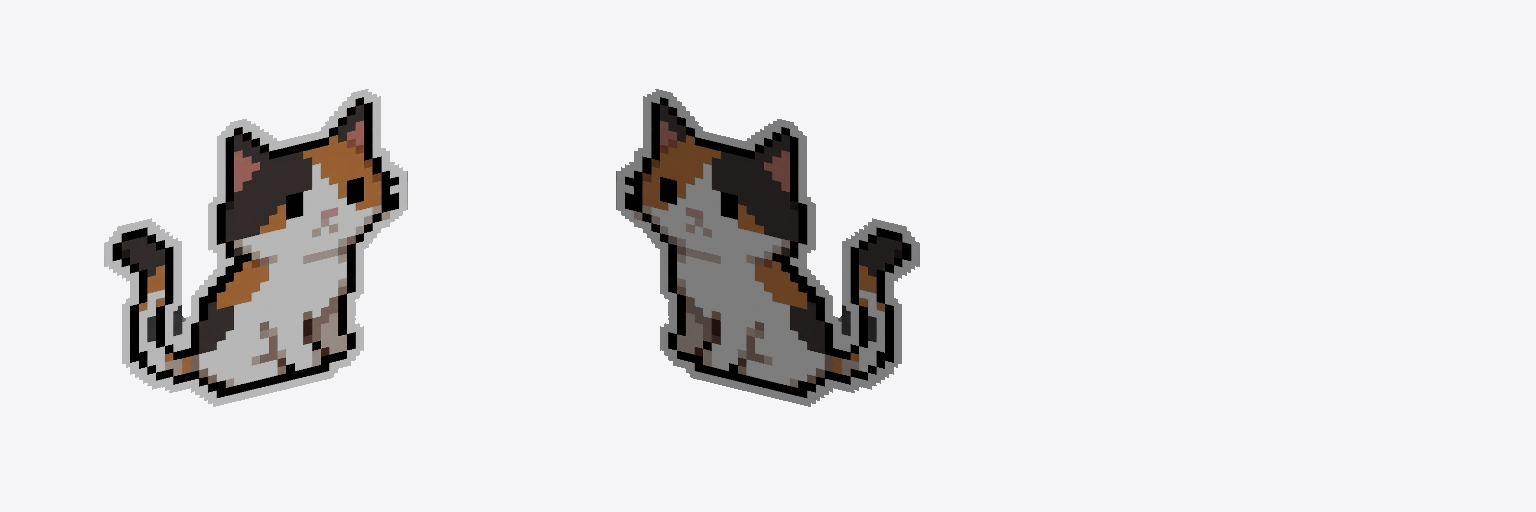
3 views of the same model, side by side, from view 1: azimuth 30°, elevation 25°; view 2: azimuth 150°, elevation 25°; view 3: azimuth 270°, elevation 25° (orthographic).
Parts seen in each view (by area): view 1: cat1.001; view 2: cat1.001; view 3: none.
Part boxes in pixels (x1,y1,x2,y2): cat1.001: (104,89,407,406); cat1.001: (616,89,919,406).
Size of the model in its own units: 1.12 by 1 by 0.
Materials: 1 (1 with a texture image).